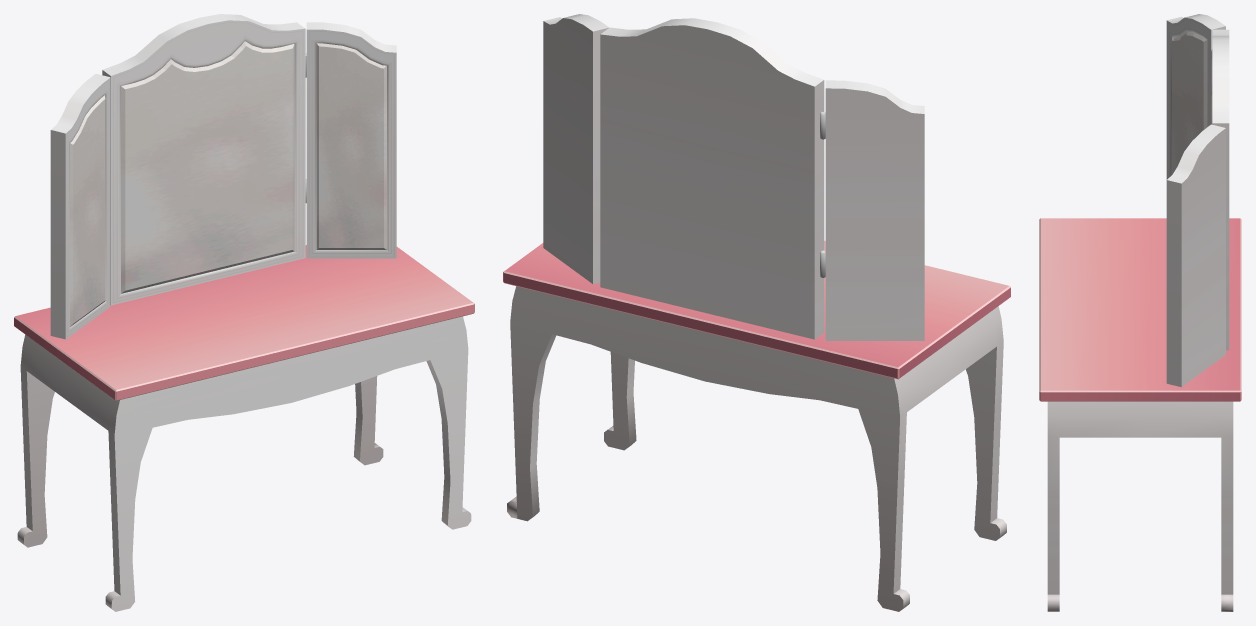
File: Doll_OB_Vanity_001.FBX
3 renders of one model, left to right at view 1: azimuth 30°, elevation 25°; view 2: azimuth 150°, elevation 25°; view 3: azimuth 270°, elevation 25°, orthographic. The views are drawn at different scales.
Parts seen in each view (by area): view 1: Doll_OB_Vanity_001, Doll_OB_Vanity_001_FMirror1, Doll_OB_Vanity_001_obj; view 2: Doll_OB_Vanity_001_obj, Doll_OB_Vanity_001; view 3: Doll_OB_Vanity_001, Doll_OB_Vanity_001_obj, Doll_OB_Vanity_001_FMirror1.
Boxes of the visible parts, x1,y1,x2,y2 form: Doll_OB_Vanity_001: [14, 245, 474, 611]; Doll_OB_Vanity_001_FMirror1: [70, 41, 386, 326]; Doll_OB_Vanity_001_obj: [50, 14, 396, 339]; Doll_OB_Vanity_001_obj: [543, 14, 924, 340]; Doll_OB_Vanity_001: [503, 240, 1010, 611]; Doll_OB_Vanity_001: [1039, 218, 1241, 611]; Doll_OB_Vanity_001_obj: [1166, 14, 1229, 387]; Doll_OB_Vanity_001_FMirror1: [1172, 32, 1212, 174].
Size of the model in its own units: 88.87 by 114 by 43.73.
